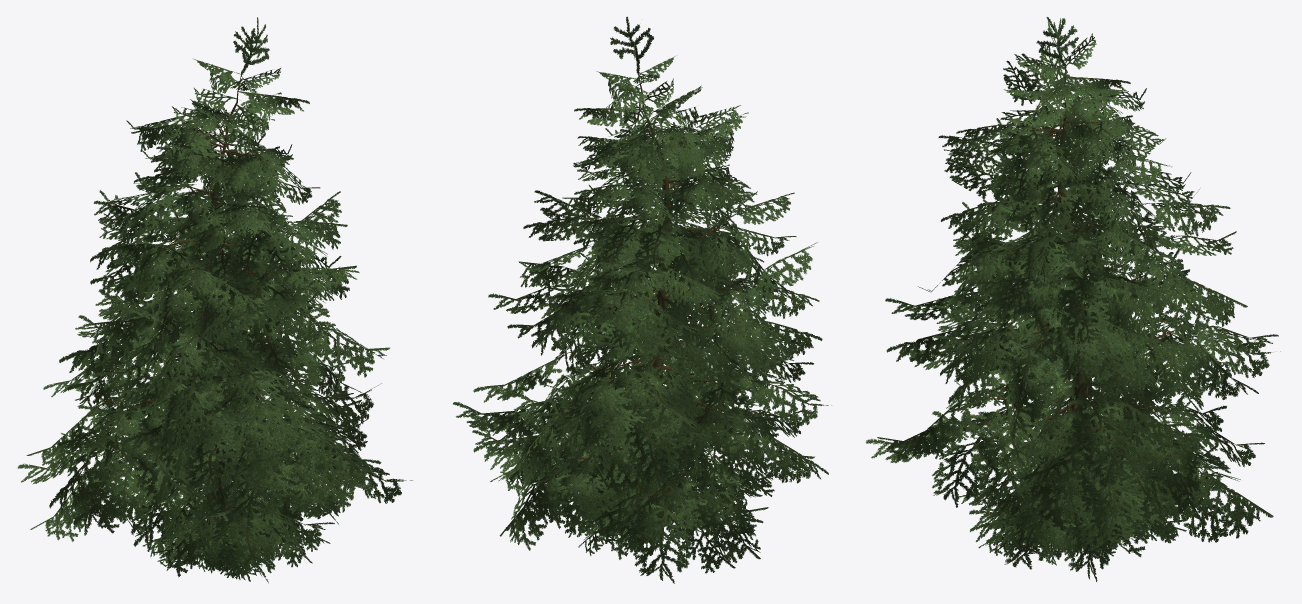
Rendered from fir4_l0.glb.
3 renders of one model, left to right at view 1: azimuth 30°, elevation 25°; view 2: azimuth 150°, elevation 25°; view 3: azimuth 270°, elevation 25°, orthographic. The views are drawn at different scales.
Parts seen in each view (by area): view 1: Christmas tree_4_LOD0_Brunches_Mat_0, Christmas tree_4_LOD0_Bark_Mat_0; view 2: Christmas tree_4_LOD0_Brunches_Mat_0, Christmas tree_4_LOD0_Bark_Mat_0; view 3: Christmas tree_4_LOD0_Brunches_Mat_0, Christmas tree_4_LOD0_Bark_Mat_0.
Part boxes in pixels (x1,y1,x2,y2): Christmas tree_4_LOD0_Brunches_Mat_0: (17, 17, 412, 583); Christmas tree_4_LOD0_Bark_Mat_0: (102, 76, 294, 567); Christmas tree_4_LOD0_Brunches_Mat_0: (453, 16, 831, 583); Christmas tree_4_LOD0_Bark_Mat_0: (546, 73, 749, 542); Christmas tree_4_LOD0_Brunches_Mat_0: (865, 17, 1280, 581); Christmas tree_4_LOD0_Bark_Mat_0: (976, 68, 1181, 498).
Bounding box in the file's own units: 6.42 × 9 × 6.3.
2 materials, 2 textured.
